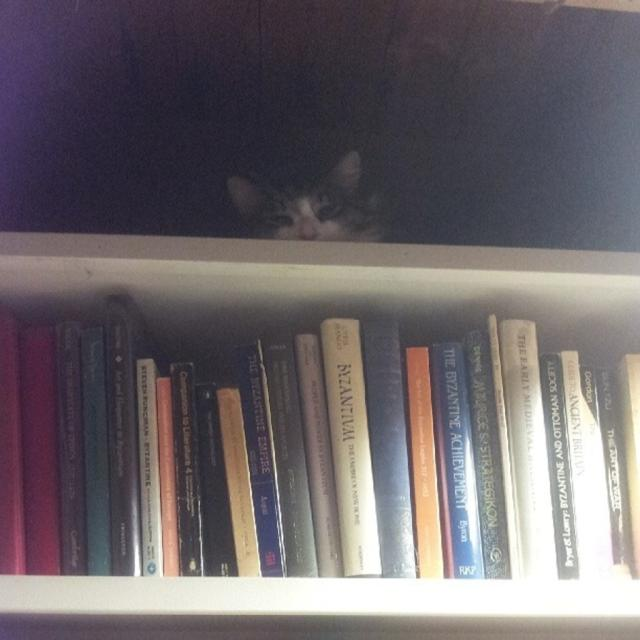Book: (0, 296, 160, 583), (157, 334, 302, 580), (262, 320, 383, 585), (424, 339, 494, 588), (505, 320, 565, 588), (360, 313, 414, 578), (485, 303, 521, 590), (408, 348, 443, 585), (567, 346, 596, 593), (603, 362, 618, 586), (631, 354, 639, 597)
